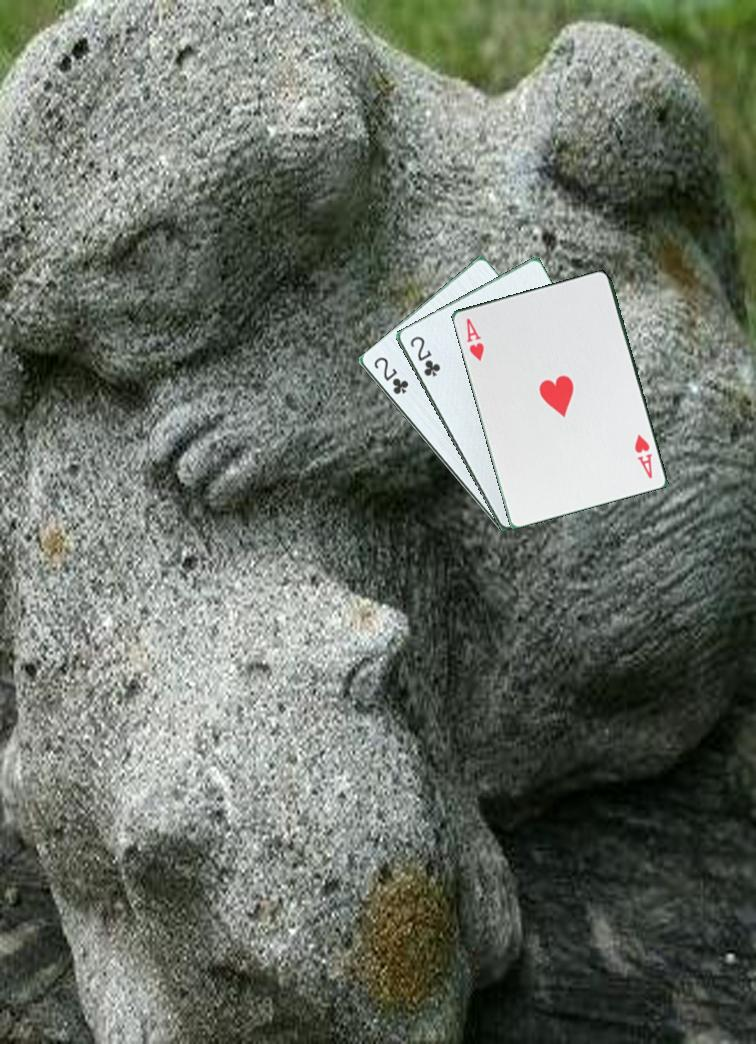2c: (370, 353, 411, 398), (406, 333, 442, 380)
ah: (462, 314, 487, 364), (630, 431, 655, 481)
